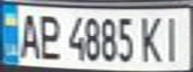4: (63, 11, 84, 61)
5: (115, 14, 139, 63)
8: (81, 12, 103, 62), (100, 14, 118, 62)
A: (15, 10, 42, 60)
I: (157, 11, 187, 63)
K: (136, 12, 166, 63)
P: (33, 10, 63, 61)
